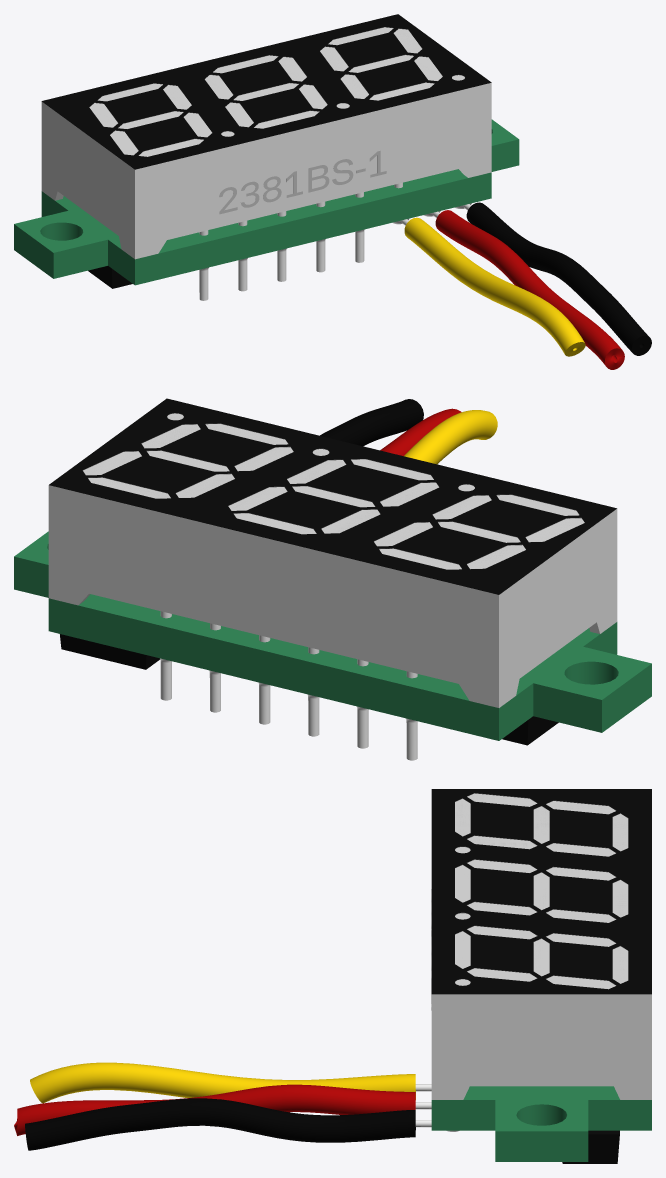
The model's file is voltmeter_three_digits.glb.
The picture shows the model from 3 angles, top to bottom: view 1: azimuth 30°, elevation 25°; view 2: azimuth 150°, elevation 25°; view 3: azimuth 270°, elevation 25°; orthographic projection. The views are drawn at different scales.
Parts seen in each view (by area): view 1: Solid1, Solid3, Solid5, Solid2, Solid10, Solid12, Solid11, Solid9, Solid4, Solid6; view 2: Solid1, Solid3, Solid5, Solid2, Solid9, Solid10, Solid12, Solid6, Solid11; view 3: Solid3, Solid1, Solid5, Solid2, Solid12, Solid10, Solid11, Solid6.
Part boxes in pixels (<box>): Solid1: <box>41,27,491,259</box>; Solid3: <box>41,14,491,169</box>; Solid5: <box>14,119,519,285</box>; Solid2: <box>89,27,464,156</box>; Solid10: <box>404,217,585,356</box>; Solid12: <box>466,202,651,355</box>; Solid11: <box>435,210,624,369</box>; Solid9: <box>199,182,471,300</box>; Solid4: <box>219,150,386,214</box>; Solid6: <box>88,266,132,288</box>; Solid1: <box>48,413,617,707</box>; Solid3: <box>49,398,616,594</box>; Solid5: <box>14,531,651,740</box>; Solid2: <box>83,413,584,569</box>; Solid9: <box>160,611,417,760</box>; Solid10: <box>404,410,497,464</box>; Solid12: <box>320,399,423,446</box>; Solid6: <box>60,634,558,745</box>; Solid11: <box>380,408,461,455</box>; Solid3: <box>431,789,651,994</box>; Solid1: <box>431,793,651,1099</box>; Solid5: <box>431,1086,651,1161</box>; Solid2: <box>455,793,627,988</box>; Solid12: <box>25,1098,415,1150</box>; Solid10: <box>30,1062,415,1103</box>; Solid11: <box>14,1084,415,1135</box>; Solid6: <box>562,1130,619,1163</box>.
Bounding box in the file's own units: 0.0299 × 0.00952 × 0.0301.
